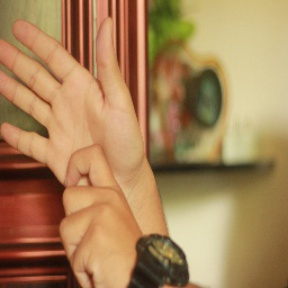R: (1, 12, 142, 265)
